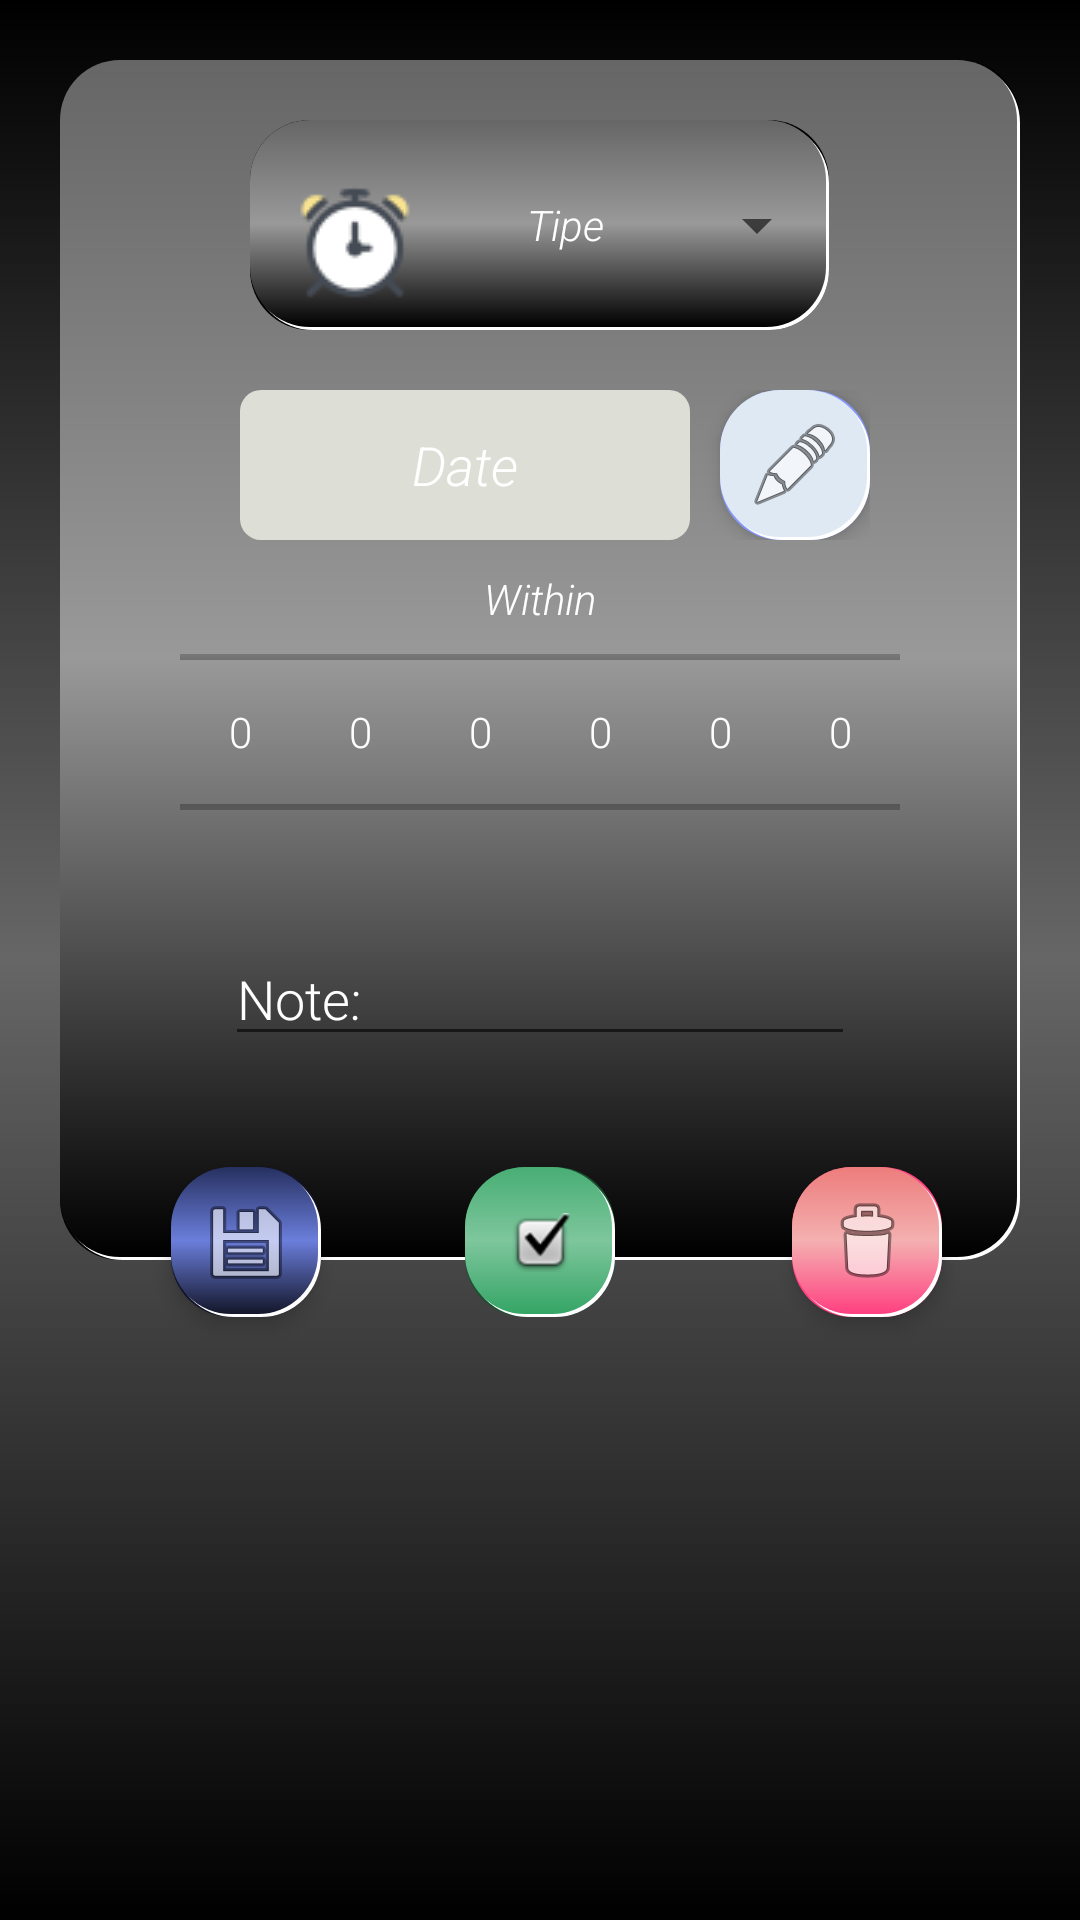

Icons on this 1080 x 1920 Android screen, each with the point to tap as (x=x, y=y):
alarmclock: (x=355, y=225)
delete: (x=867, y=1242)
edit: (x=795, y=465)
save: (x=246, y=1242)
